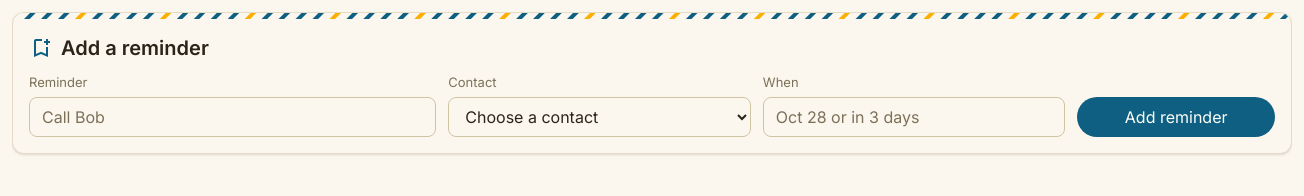
ReminderQuickAdd › shows the day it understood before the reminder is added
This screenshot has width=1304, height=196.
Type "next friday" into the field labelled "When". click: coordinates (914, 117)
box: [763,97,1065,137]
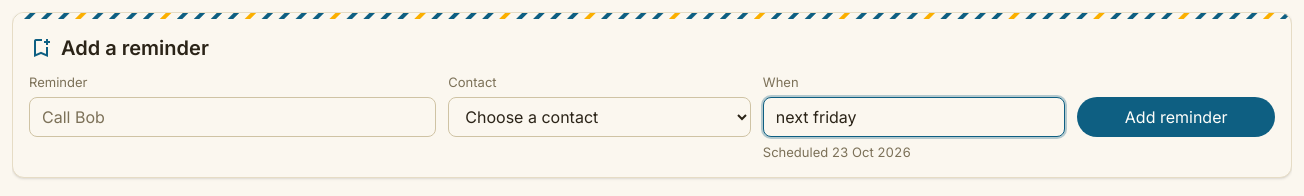
Expected: the text "Scheduled 23 Oct 2026" is shown, [763,144,911,160]
